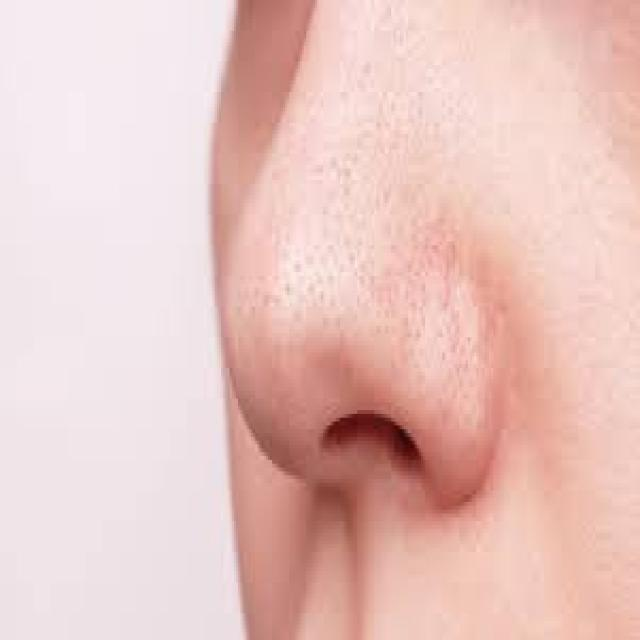pores: (231, 56, 602, 435)
